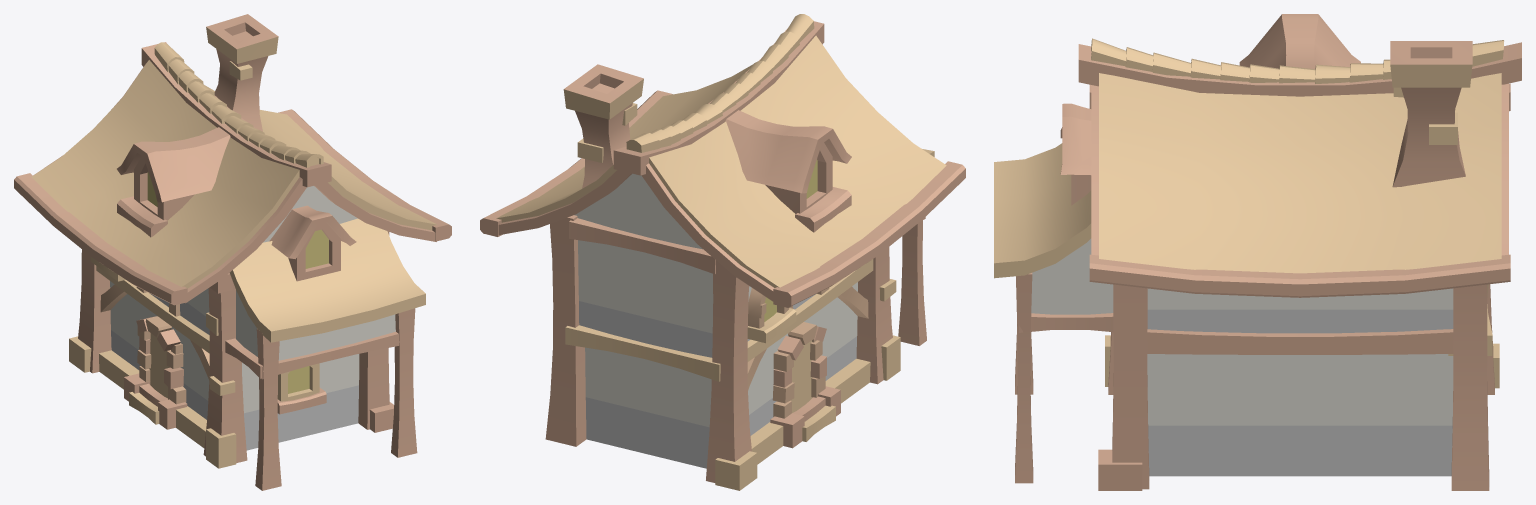
Rendered from tap fire house.fbx.
3 renders of one model, left to right at view 1: azimuth 30°, elevation 25°; view 2: azimuth 150°, elevation 25°; view 3: azimuth 270°, elevation 25°, orthographic. The views are drawn at different scales.
Visible parts, largest first — view 1: polySurface1, polySurface52, polySurface2, polySurface12, polySurface71, polySurface72, polySurface4, polySurface48, polySurface8, polySurface50, polySurface13, polySurface51 (+21 smaller); view 2: polySurface1, polySurface3, polySurface2, polySurface12, polySurface39, polySurface6, polySurface72, polySurface71, polySurface8, polySurface4, polySurface36, polySurface37 (+17 smaller); view 3: polySurface8, polySurface2, polySurface3, polySurface87, polySurface52, polySurface71, polySurface6, polySurface57, polySurface7, polySurface5, polySurface12, polySurface13 (+13 smaller).
Boxes of the visible parts, bbox=[...] form: polySurface1: bbox=[31, 60, 299, 288]; polySurface52: bbox=[230, 218, 425, 342]; polySurface2: bbox=[110, 281, 359, 450]; polySurface12: bbox=[117, 127, 230, 220]; polySurface71: bbox=[206, 14, 278, 131]; polySurface72: bbox=[14, 173, 187, 305]; polySurface4: bbox=[203, 273, 247, 462]; polySurface48: bbox=[269, 205, 356, 281]; polySurface8: bbox=[204, 85, 436, 230]; polySurface50: bbox=[255, 329, 281, 490]; polySurface13: bbox=[236, 290, 395, 360]; polySurface51: bbox=[391, 308, 417, 457]; polySurface1: bbox=[649, 35, 946, 287]; polySurface3: bbox=[574, 173, 815, 357]; polySurface2: bbox=[585, 282, 857, 468]; polySurface12: bbox=[725, 110, 851, 213]; polySurface39: bbox=[706, 260, 751, 482]; polySurface6: bbox=[545, 215, 586, 446]; polySurface72: bbox=[773, 161, 965, 307]; polySurface71: bbox=[563, 64, 643, 188]; polySurface8: bbox=[496, 64, 752, 222]; polySurface4: bbox=[856, 247, 892, 384]; polySurface36: bbox=[565, 325, 720, 381]; polySurface37: bbox=[569, 218, 715, 274]; polySurface8: bbox=[1099, 73, 1501, 273]; polySurface2: bbox=[1147, 354, 1453, 476]; polySurface3: bbox=[1147, 288, 1453, 333]; polySurface87: bbox=[1089, 254, 1510, 297]; polySurface52: bbox=[994, 143, 1091, 278]; polySurface71: bbox=[1390, 41, 1472, 187]; polySurface6: bbox=[1451, 284, 1489, 490]; polySurface57: bbox=[1147, 329, 1453, 354]; polySurface7: bbox=[1112, 284, 1149, 489]; polySurface5: bbox=[1078, 42, 1521, 96]; polySurface12: bbox=[1239, 14, 1360, 69]; polySurface13: bbox=[1031, 238, 1113, 314].
Size of the model in its own units: 7.36 by 7.86 by 8.96.
